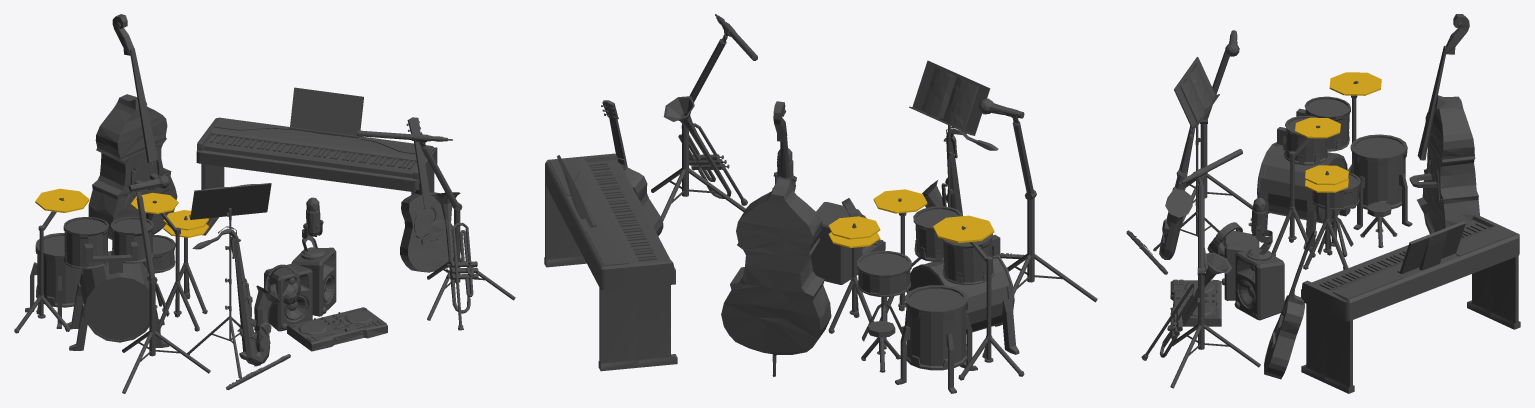
Rendered from Music_Band_Low_Poly.glb.
The picture shows the model from 3 angles, left to right: view 1: azimuth 30°, elevation 25°; view 2: azimuth 150°, elevation 25°; view 3: azimuth 270°, elevation 25°; orthographic projection. The views are drawn at different scales.
Parts seen in each view (by area): view 1: Cube.011_2, Cylinder.007_0, Cylinder_0, Cube.011_3, Cylinder.031_0, Cube.011_1, Cube.018_0, Cylinder.032_0, Cube.007_0, Cube.014_0, Cube_0, Cylinder.003_0 (+30 smaller); view 2: Cylinder.007_0, Cube.011_2, Cylinder.003_0, Cylinder.003_2, Cube_0, Cube.020_0, Cylinder.032_0, Cylinder_2, Cube.013_0, Cube.011_1, Cylinder.002_0, Cube.018_0 (+22 smaller); view 3: Cube.011_2, Cylinder.007_0, Cylinder_2, Cube.006_0, Cylinder.031_0, Cylinder.003_0, Cylinder.032_0, Cube.011_3, Cube.007_1, Cylinder.003_2, Cube.011_0, Cube_0 (+30 smaller).
Boxes of the visible parts, x1=… form: Cube.011_2: x1=196, y1=117, x2=437, y2=235; Cylinder.007_0: x1=88, y1=14, x2=177, y2=239; Cylinder_0: x1=86, y1=279, x2=149, y2=340; Cube.011_3: x1=289, y1=87, x2=363, y2=138; Cylinder.031_0: x1=199, y1=226, x2=279, y2=366; Cube.011_1: x1=203, y1=135, x2=417, y2=178; Cube.018_0: x1=189, y1=183, x2=271, y2=219; Cylinder.032_0: x1=431, y1=192, x2=478, y2=314; Cube.007_0: x1=408, y1=193, x2=460, y2=271; Cube.014_0: x1=287, y1=307, x2=387, y2=351; Cube_0: x1=264, y1=263, x2=312, y2=331; Cylinder.003_0: x1=37, y1=251, x2=82, y2=303; Cylinder.007_0: x1=721, y1=101, x2=831, y2=354; Cube.011_2: x1=544, y1=153, x2=677, y2=371; Cylinder.003_0: x1=907, y1=306, x2=965, y2=365; Cylinder.003_2: x1=895, y1=285, x2=977, y2=393; Cube_0: x1=811, y1=202, x2=862, y2=284; Cube.020_0: x1=921, y1=67, x2=978, y2=129; Cylinder.032_0: x1=663, y1=96, x2=739, y2=198; Cylinder_2: x1=924, y1=258, x2=1009, y2=333; Cube.013_0: x1=588, y1=162, x2=658, y2=262; Cube.011_1: x1=587, y1=160, x2=668, y2=261; Cylinder.002_0: x1=943, y1=239, x2=993, y2=282; Cube.018_0: x1=909, y1=60, x2=990, y2=135; Cube.011_2: x1=1301, y1=215, x2=1520, y2=393; Cylinder.007_0: x1=1422, y1=14, x2=1479, y2=233; Cylinder_2: x1=1259, y1=145, x2=1332, y2=223; Cube.006_0: x1=1235, y1=251, x2=1284, y2=320; Cylinder.031_0: x1=1159, y1=126, x2=1195, y2=259; Cylinder.003_0: x1=1352, y1=155, x2=1405, y2=205; Cylinder.032_0: x1=1150, y1=252, x2=1231, y2=357; Cube.011_3: x1=1397, y1=223, x2=1465, y2=274; Cube.007_1: x1=1264, y1=290, x2=1304, y2=379; Cylinder.003_2: x1=1350, y1=134, x2=1412, y2=229; Cube.011_0: x1=1333, y1=227, x2=1515, y2=299; Cube_0: x1=1224, y1=230, x2=1259, y2=300.
Size of the model in its own units: 31.67 by 17.8 by 25.15.
